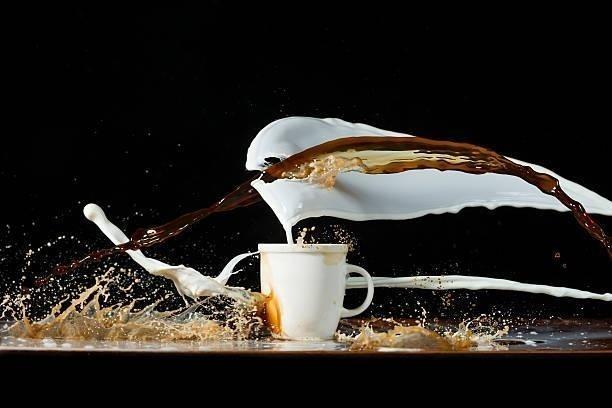cup-handle: (257, 241, 374, 342)
